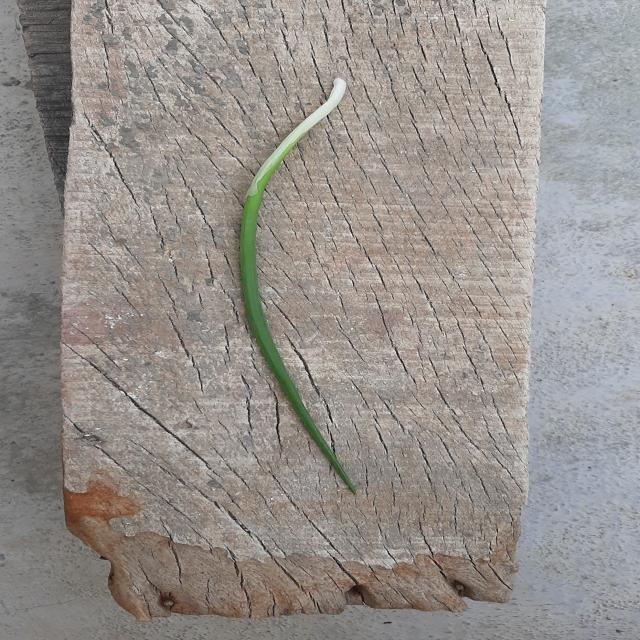onion: (238, 78, 358, 494)
